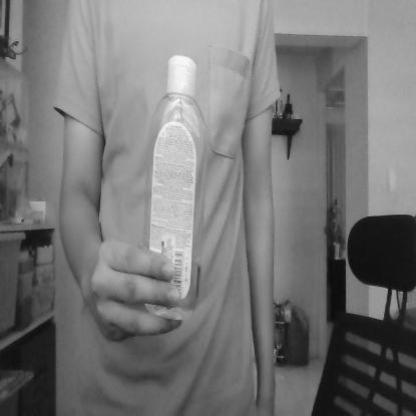Plastic Bottle: (138, 52, 209, 324)
